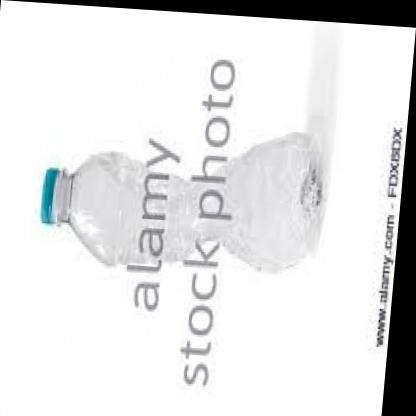Plastic: (35, 99, 334, 304)
